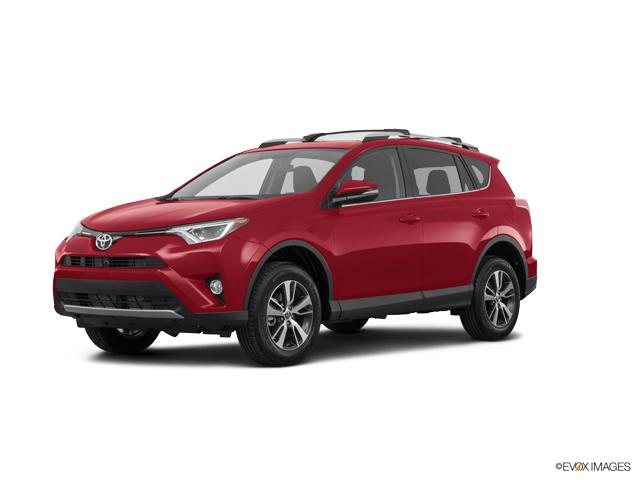Toyota RAV-4: (51, 127, 539, 368)
